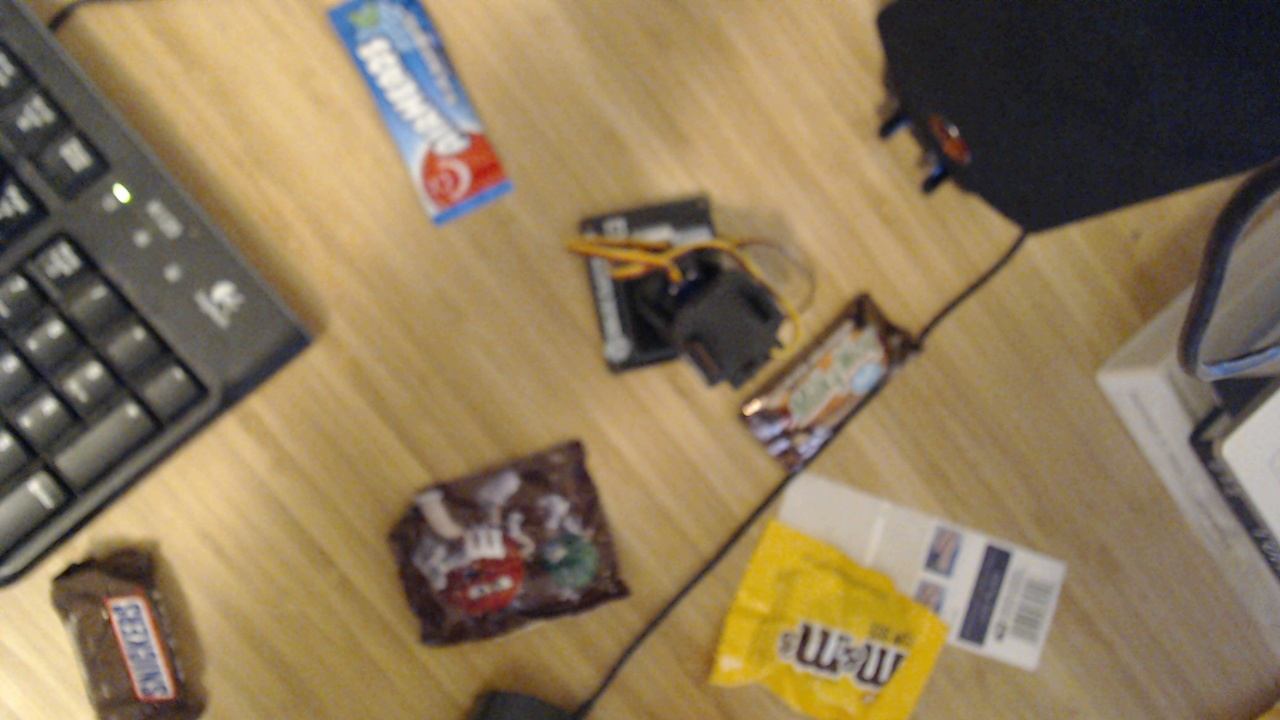MMs_peanut: (370, 430, 642, 648)
MMs_regular: (695, 518, 948, 720)
airheads: (321, 0, 540, 230)
skittles: (734, 233, 928, 470)
snickers: (15, 556, 247, 720)
